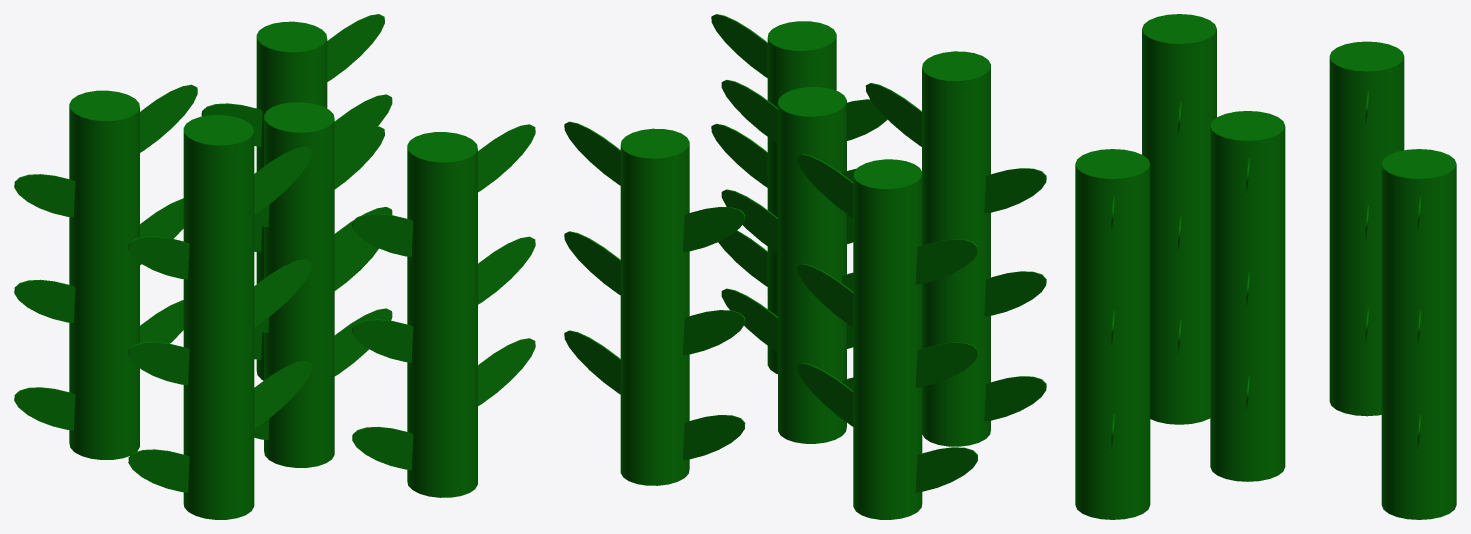
File: Seaweed.fbx
3 renders of one model, left to right at view 1: azimuth 30°, elevation 25°; view 2: azimuth 150°, elevation 25°; view 3: azimuth 270°, elevation 25°, orthographic. The views are drawn at different scales.
Parts seen in each view (by area): view 1: pasted__pCylinder1 (×4), pasted__pasted__pasted__pCylinder3 (×8), pasted__pasted__pCylinder2 (×6), pasted__pasted__pCylinder3 (×6), pasted__pCylinder2 (×4), pCylinder1, pasted__pCylinder3; view 2: pasted__pCylinder1 (×4), pCylinder1, pasted__pasted__pasted__pCylinder3 (×7), pasted__pasted__pCylinder2 (×5), pasted__pasted__pCylinder3 (×5), pasted__pCylinder2 (×4), pCylinder2, pasted__pCylinder3; view 3: pasted__pCylinder1 (×4), pCylinder1.
Boxes of the visible parts, left/top/right/bottom form: pasted__pCylinder1 (×4): left=69, top=90, right=477, bottom=519; pasted__pasted__pasted__pCylinder3 (×8): left=140, top=84, right=535, bottom=326; pasted__pasted__pCylinder2 (×6): left=14, top=174, right=413, bottom=385; pasted__pasted__pCylinder3 (×6): left=140, top=14, right=535, bottom=428; pasted__pCylinder2 (×4): left=14, top=103, right=413, bottom=492; pCylinder1: left=256, top=21, right=327, bottom=380; pasted__pCylinder3: left=334, top=245, right=378, bottom=290; pasted__pCylinder1 (×4): left=767, top=21, right=990, bottom=519; pCylinder1: left=620, top=128, right=689, bottom=485; pasted__pasted__pasted__pCylinder3 (×7): left=711, top=14, right=921, bottom=327; pasted__pasted__pCylinder2 (×5): left=847, top=99, right=1046, bottom=387; pasted__pasted__pCylinder3 (×5): left=564, top=121, right=853, bottom=426; pasted__pCylinder2 (×4): left=683, top=207, right=1046, bottom=492; pCylinder2: left=683, top=415, right=745, bottom=460; pasted__pCylinder3: left=564, top=330, right=620, bottom=394; pasted__pCylinder1 (×4): left=1075, top=14, right=1404, bottom=519; pCylinder1: left=1381, top=149, right=1456, bottom=519.
Size of the model in its own units: 176 by 159 by 144.
